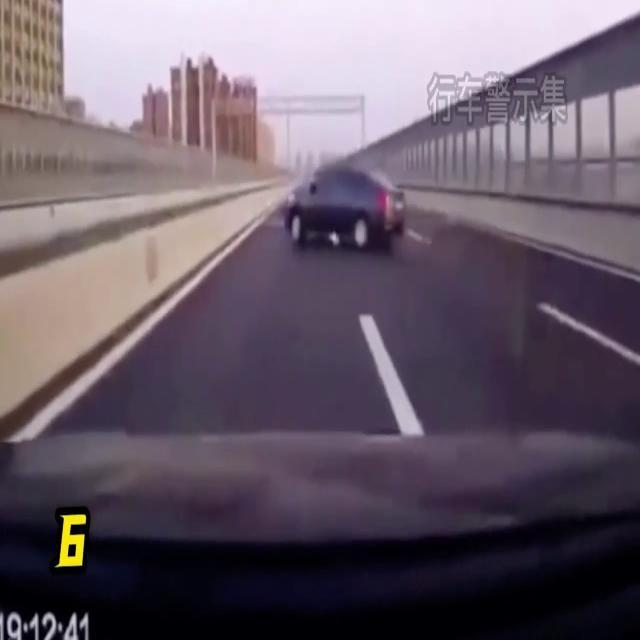single accident: (277, 153, 404, 262)
